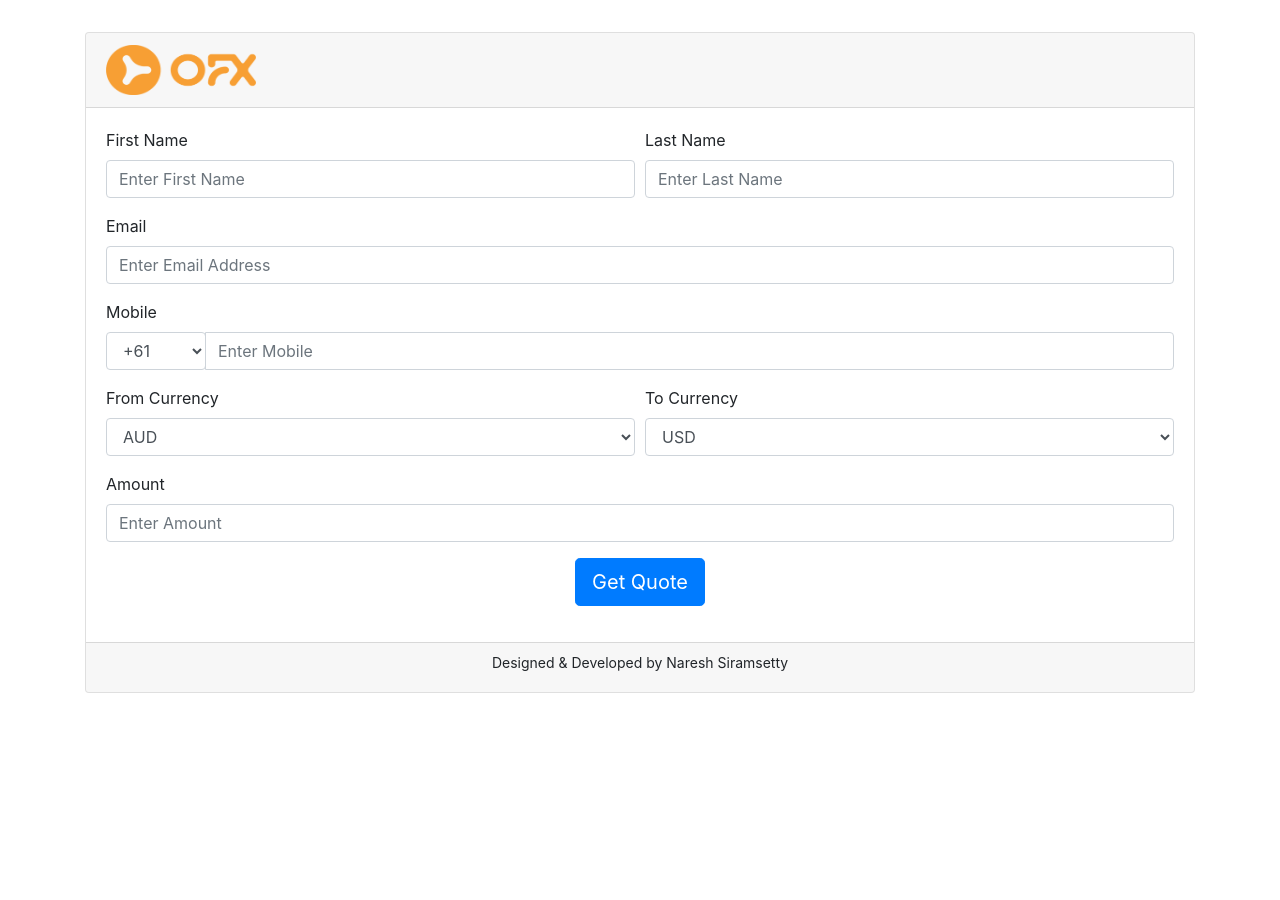
Test: Error on Submit & Validation
Expected: the form with test id "new-quote-form" is shown, [106,128,1174,622]
Click the button with test id "get-quote-button". click: (640, 582)
box: [575,558,705,606]
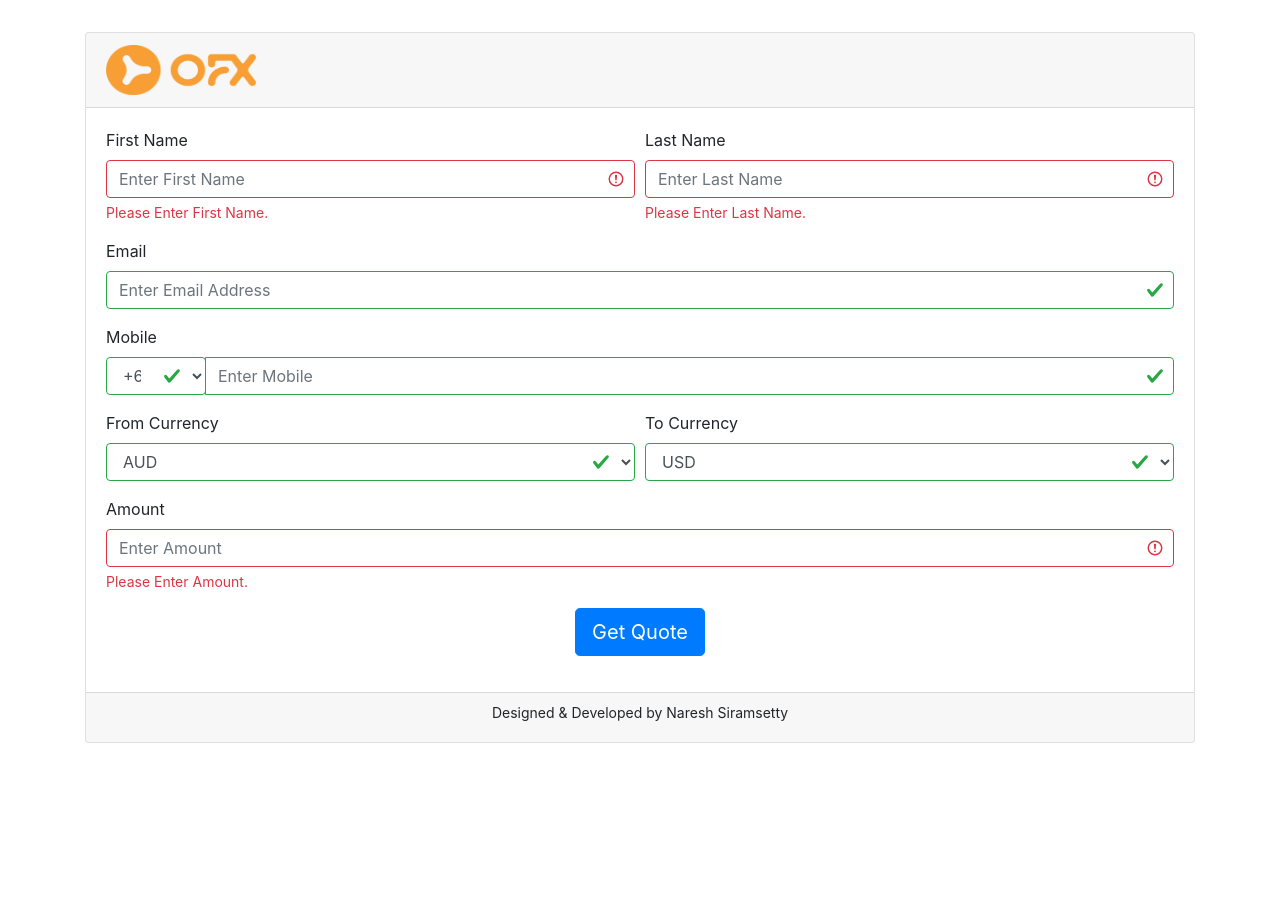
Now the text "Please Enter First Name." is shown, box [106,204,268,221]
